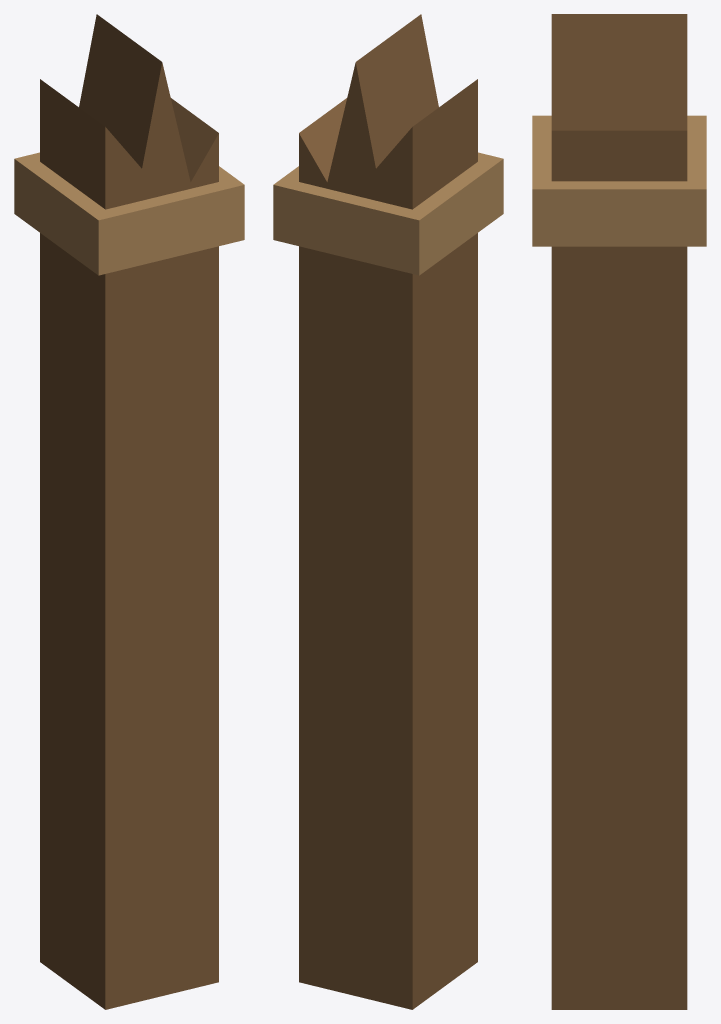
File: TW_WOOD_END_BROKEN_B_LOD0.glb
3 renders of one model, left to right at view 1: azimuth 30°, elevation 25°; view 2: azimuth 150°, elevation 25°; view 3: azimuth 270°, elevation 25°, orthographic. The views are drawn at different scales.
Visible parts, largest first — view 1: TW_WOOD_END_BROKEN_B_LOD0; view 2: TW_WOOD_END_BROKEN_B_LOD0; view 3: TW_WOOD_END_BROKEN_B_LOD0.
Boxes of the visible parts, bbox=[...] form: TW_WOOD_END_BROKEN_B_LOD0: bbox=[14, 14, 244, 1009]; TW_WOOD_END_BROKEN_B_LOD0: bbox=[273, 14, 503, 1009]; TW_WOOD_END_BROKEN_B_LOD0: bbox=[532, 14, 706, 1009].
Bounding box in the file's own units: 0.18 × 1.1 × 0.18.
1 material, 1 textured.
